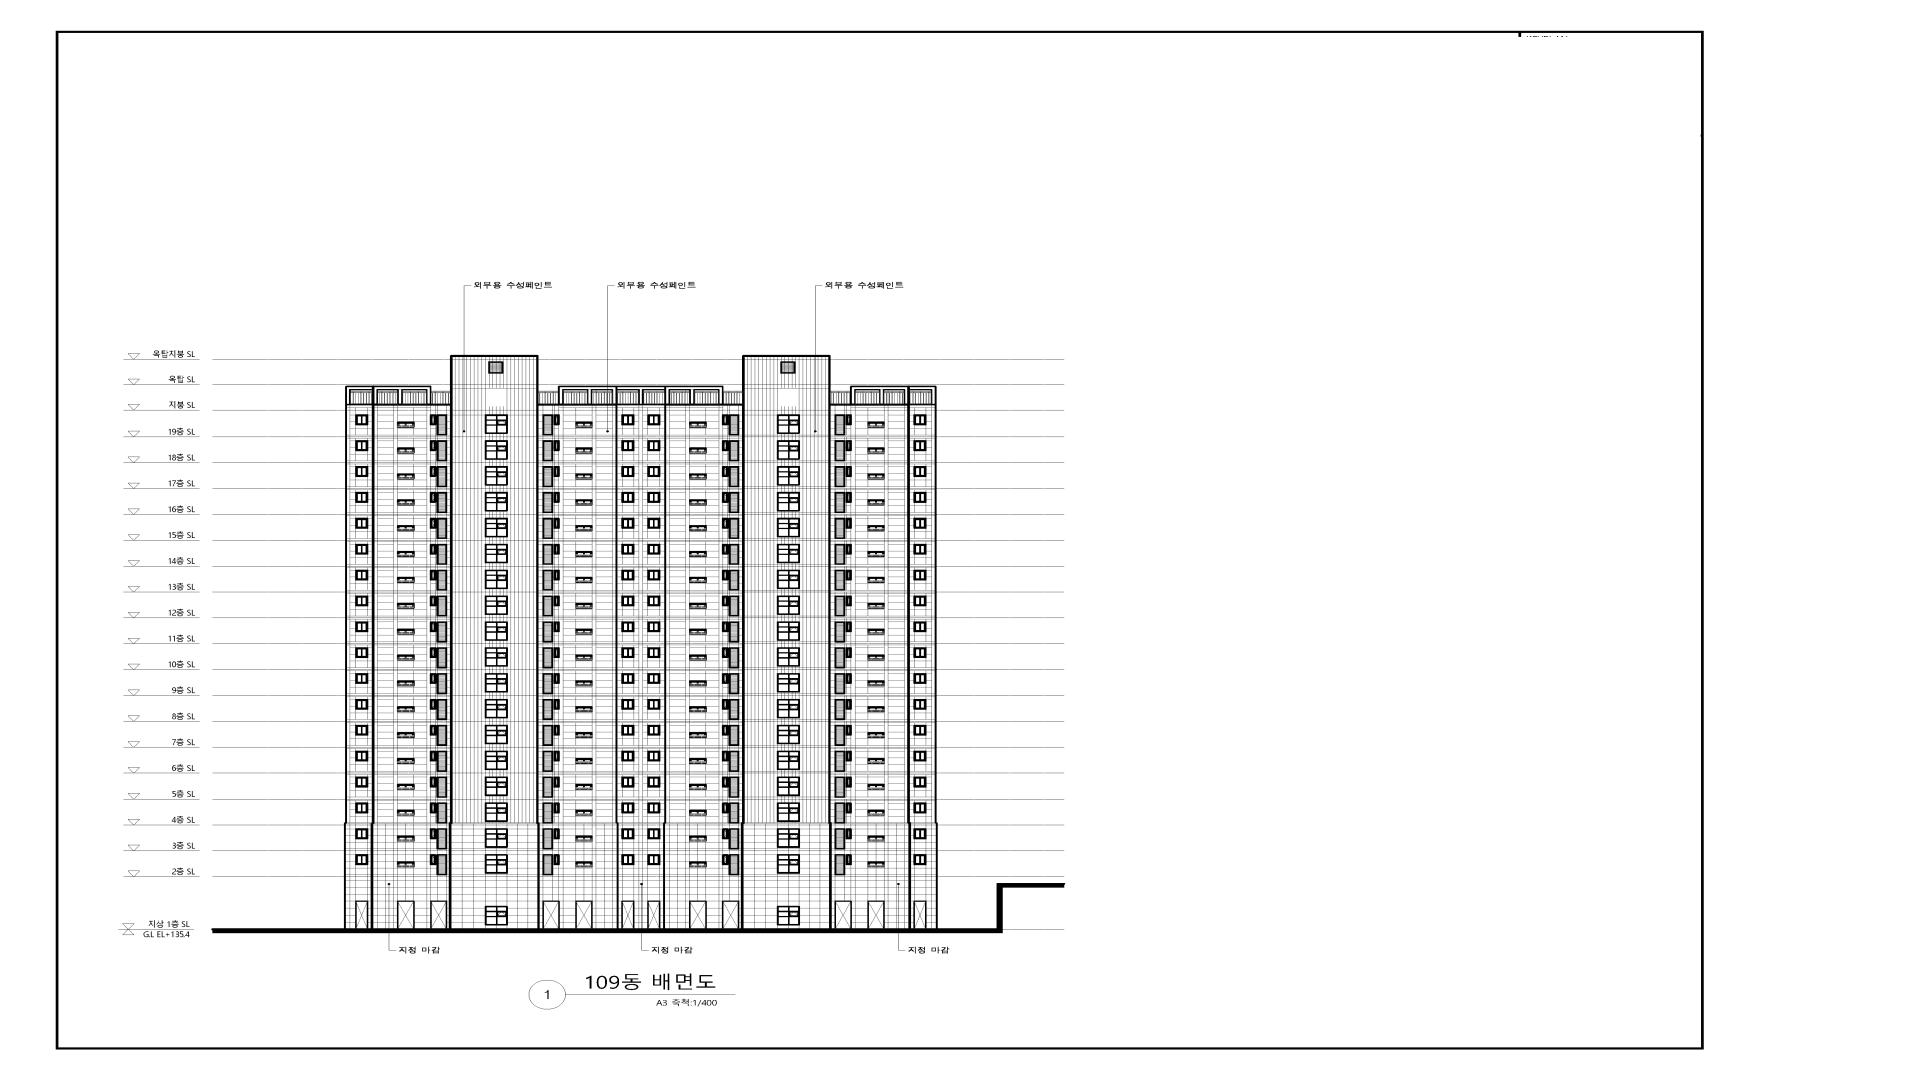door: (397, 901, 415, 928), (542, 901, 560, 928), (688, 901, 707, 928), (721, 901, 740, 928), (430, 901, 447, 928), (575, 901, 592, 928), (835, 901, 852, 928), (868, 901, 885, 928), (355, 901, 368, 928), (621, 901, 634, 928), (647, 901, 661, 928), (914, 901, 927, 928)
wall: (344, 355, 938, 934)
window: (777, 621, 800, 641), (777, 595, 800, 615), (777, 570, 800, 589), (777, 543, 800, 563), (777, 492, 800, 512), (777, 465, 800, 485), (777, 440, 800, 460), (777, 414, 800, 434), (484, 855, 508, 874), (484, 750, 508, 770), (484, 570, 508, 589), (777, 906, 800, 926), (777, 828, 800, 848), (777, 777, 800, 796), (777, 750, 800, 770), (777, 699, 800, 719), (777, 673, 800, 692), (485, 906, 508, 926), (485, 828, 508, 848), (485, 777, 508, 796), (485, 699, 508, 719), (485, 673, 508, 692), (485, 621, 508, 641), (485, 543, 508, 563), (485, 518, 508, 538), (485, 492, 508, 512), (485, 440, 508, 460), (485, 414, 508, 434), (777, 518, 800, 537), (484, 596, 508, 615), (777, 855, 800, 873), (777, 803, 800, 822), (777, 725, 800, 744), (777, 647, 800, 666), (485, 803, 508, 822), (485, 725, 508, 744), (485, 647, 508, 666), (485, 467, 508, 485), (542, 595, 554, 617), (728, 802, 740, 824), (728, 673, 740, 695), (728, 595, 740, 617), (542, 802, 554, 824), (542, 647, 554, 669), (542, 570, 554, 591), (542, 543, 554, 564), (542, 492, 554, 513), (542, 465, 554, 487), (542, 440, 554, 462), (542, 414, 554, 435), (728, 855, 740, 876), (728, 750, 740, 771), (728, 725, 740, 746), (728, 699, 740, 720), (728, 647, 740, 669), (728, 621, 740, 642), (728, 570, 740, 591), (728, 543, 740, 564), (728, 518, 740, 539), (728, 440, 740, 462), (542, 855, 554, 876), (542, 828, 554, 849), (542, 777, 554, 798), (542, 750, 554, 771), (542, 673, 554, 694), (835, 802, 845, 824), (835, 673, 845, 695), (835, 595, 845, 617), (835, 465, 845, 488), (436, 802, 447, 824), (436, 673, 447, 695), (436, 595, 447, 617), (436, 465, 447, 488), (542, 724, 553, 746), (542, 621, 553, 642), (542, 518, 553, 539), (729, 828, 740, 849), (729, 777, 740, 798), (729, 492, 740, 513), (729, 465, 740, 487), (729, 414, 740, 435), (835, 855, 845, 876), (835, 828, 845, 849), (835, 777, 845, 798), (835, 750, 845, 771), (835, 725, 845, 746), (835, 699, 845, 720), (835, 647, 845, 669), (835, 621, 845, 642), (835, 570, 845, 591), (835, 543, 845, 564), (835, 518, 845, 539), (835, 492, 845, 513), (835, 440, 845, 462), (835, 414, 845, 435), (436, 855, 447, 876), (436, 828, 447, 849), (436, 777, 447, 798), (436, 750, 447, 771), (436, 725, 447, 746), (436, 699, 447, 720), (436, 647, 447, 669), (436, 621, 447, 642), (436, 570, 447, 591), (436, 543, 447, 564), (436, 518, 447, 539), (436, 492, 447, 513), (436, 440, 447, 462), (436, 414, 447, 435), (542, 699, 553, 720), (488, 361, 504, 373), (781, 361, 795, 373), (355, 828, 368, 840), (355, 750, 368, 762), (621, 465, 634, 477), (647, 828, 661, 840), (355, 673, 368, 684), (355, 621, 368, 633), (355, 595, 368, 607), (355, 543, 368, 555), (355, 465, 368, 477), (621, 673, 634, 684), (621, 621, 634, 633), (621, 595, 634, 607), (621, 543, 634, 555), (647, 802, 661, 814), (647, 750, 661, 762), (647, 724, 661, 736), (647, 673, 661, 684), (647, 621, 661, 633), (647, 595, 661, 607), (647, 543, 661, 555), (647, 465, 661, 477), (647, 414, 661, 426), (914, 828, 927, 840), (914, 750, 927, 762), (914, 673, 927, 684), (914, 621, 927, 633), (914, 543, 927, 555), (914, 465, 927, 477), (914, 414, 927, 426), (355, 855, 368, 865), (355, 803, 368, 814), (355, 777, 368, 787), (355, 725, 368, 736), (355, 699, 368, 709), (621, 492, 634, 502), (621, 440, 634, 451), (621, 414, 634, 425), (647, 855, 661, 865), (355, 647, 368, 658), (355, 570, 368, 580), (355, 518, 368, 529), (355, 492, 368, 502), (355, 440, 368, 451), (355, 414, 368, 425), (621, 855, 634, 865), (621, 828, 634, 839), (621, 803, 634, 814), (621, 777, 634, 787), (621, 750, 634, 761), (621, 725, 634, 736), (621, 699, 634, 709), (621, 647, 634, 658), (621, 570, 634, 580), (621, 518, 634, 529), (647, 777, 661, 787), (647, 699, 661, 709), (647, 647, 661, 658), (647, 570, 661, 580), (647, 518, 661, 529), (647, 492, 661, 502), (647, 440, 661, 451), (914, 855, 927, 865), (914, 803, 927, 814), (914, 777, 927, 787), (914, 725, 927, 736), (914, 699, 927, 709), (914, 647, 927, 658), (914, 596, 927, 607), (914, 570, 927, 580), (914, 518, 927, 529), (914, 492, 927, 502), (913, 440, 926, 451), (397, 835, 415, 841), (397, 810, 415, 816), (397, 783, 415, 790), (397, 654, 415, 661), (397, 576, 415, 583), (397, 525, 415, 531), (397, 473, 415, 480), (575, 835, 593, 841), (688, 861, 707, 868), (688, 835, 707, 841), (688, 810, 707, 816), (688, 783, 707, 790), (688, 732, 707, 738), (688, 705, 707, 712), (688, 654, 707, 661), (688, 603, 707, 609), (688, 576, 707, 583), (688, 551, 707, 558), (688, 473, 707, 480), (688, 447, 707, 454), (868, 576, 885, 583), (868, 551, 885, 558), (868, 525, 885, 531), (868, 473, 885, 480), (868, 447, 885, 454), (868, 421, 885, 427), (397, 861, 414, 868), (397, 732, 414, 738), (397, 705, 414, 712), (397, 603, 414, 609), (397, 551, 414, 558), (397, 447, 414, 454), (575, 861, 592, 868), (575, 783, 592, 790), (575, 732, 592, 738), (575, 654, 592, 661), (575, 603, 592, 609), (575, 576, 592, 583), (575, 551, 592, 558), (575, 525, 592, 531), (575, 473, 592, 480), (575, 447, 592, 454), (690, 525, 707, 531), (868, 861, 885, 868), (868, 835, 885, 841), (868, 810, 885, 816), (868, 783, 885, 790), (868, 732, 885, 738), (868, 705, 885, 712), (868, 680, 885, 687), (868, 654, 885, 661), (868, 603, 885, 609), (397, 758, 415, 764), (397, 680, 415, 686), (397, 500, 415, 505), (688, 758, 707, 764), (688, 680, 707, 686), (688, 629, 707, 634), (688, 500, 707, 505), (688, 422, 707, 427), (868, 500, 885, 505), (397, 629, 414, 634), (397, 422, 414, 427), (575, 810, 592, 815), (575, 758, 592, 764), (575, 707, 592, 712), (575, 680, 592, 686), (575, 629, 592, 634), (575, 500, 592, 505), (575, 422, 592, 427), (868, 758, 885, 764), (868, 629, 885, 634), (430, 828, 436, 840), (430, 802, 436, 814), (430, 750, 436, 762), (430, 673, 436, 684), (430, 543, 436, 555), (430, 465, 436, 477), (554, 673, 560, 684), (554, 543, 560, 555), (554, 465, 560, 477), (721, 802, 728, 814), (721, 673, 728, 684), (721, 621, 728, 633), (721, 543, 728, 555), (845, 750, 852, 762), (845, 673, 852, 684), (845, 543, 852, 555), (845, 465, 852, 477), (430, 855, 436, 865), (430, 777, 436, 787), (430, 725, 436, 736), (430, 699, 436, 709), (430, 647, 436, 658), (430, 621, 436, 632), (430, 596, 436, 607), (430, 570, 436, 580), (430, 518, 436, 529), (430, 492, 436, 502), (430, 440, 436, 451), (430, 414, 436, 425), (554, 855, 560, 865), (554, 828, 560, 839), (554, 803, 560, 814), (554, 777, 560, 787), (554, 750, 560, 761), (554, 725, 560, 736), (554, 699, 560, 709), (554, 647, 560, 658), (554, 621, 560, 632), (554, 596, 560, 607), (554, 570, 560, 580), (554, 518, 560, 529), (554, 492, 560, 502), (554, 440, 560, 451), (554, 414, 560, 425), (721, 855, 728, 865), (721, 828, 728, 839), (721, 777, 728, 787), (721, 750, 728, 761), (721, 725, 728, 736), (721, 699, 728, 709), (721, 647, 728, 658), (721, 596, 728, 607), (721, 570, 728, 580), (721, 518, 728, 529), (721, 492, 728, 502), (721, 467, 728, 477), (721, 440, 728, 451), (721, 414, 728, 425), (845, 855, 852, 865), (845, 828, 852, 839), (845, 803, 852, 814), (845, 777, 852, 787), (845, 725, 852, 736), (845, 699, 852, 709), (845, 647, 852, 658), (845, 621, 852, 632), (845, 596, 852, 607), (845, 570, 852, 580), (845, 518, 852, 529), (845, 492, 852, 502), (845, 440, 852, 451), (845, 414, 852, 425)
